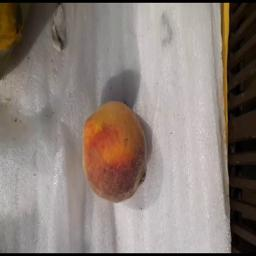Peach Semifresh: (75, 99, 159, 211)
